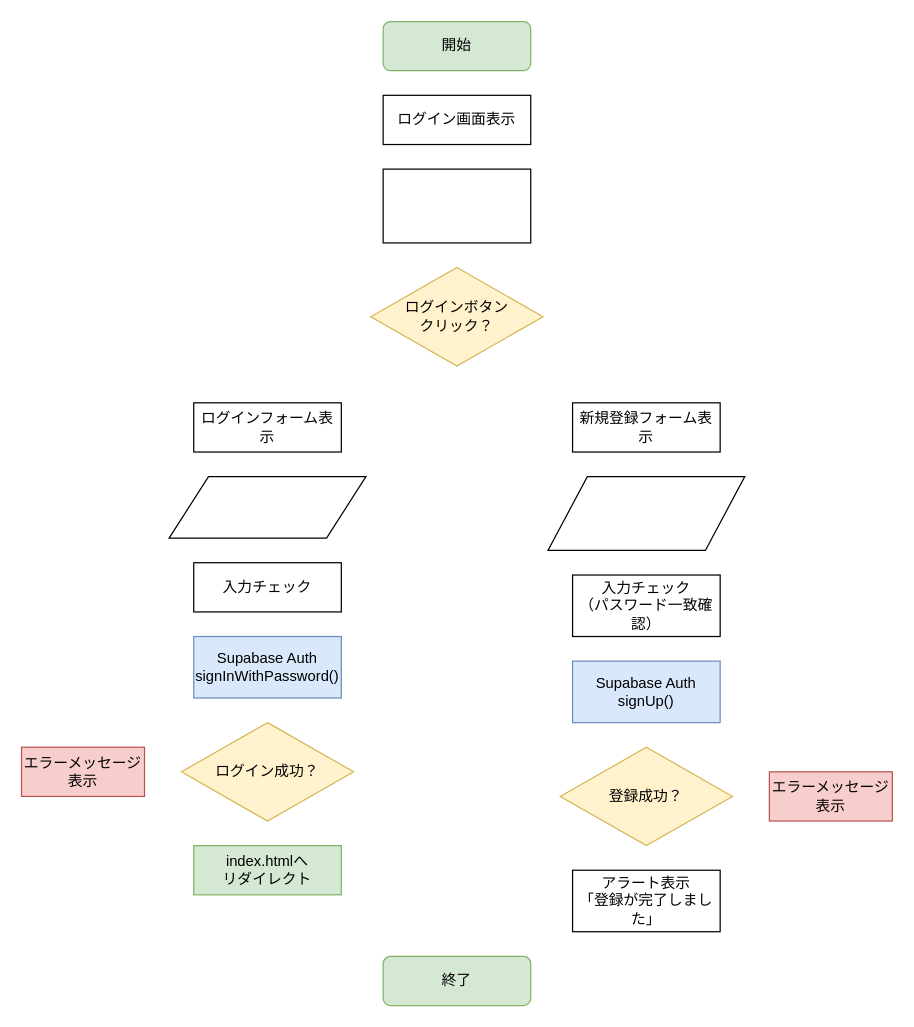
This 914x1027 diagram has some shape labels left out. The centre of each missing label's shape, as x and y in pixels:
"ニックネーム・ メールアドレス・ パスワード入力" belongs at [646,512].
"メールアドレス・ パスワード入力" belongs at [267,506].
"ログイン/新規登録 選択画面表示" belongs at [456,205].
